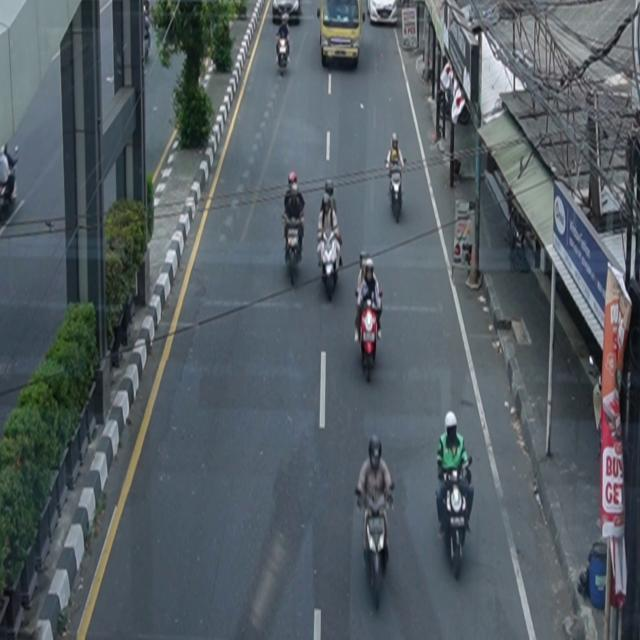car: (317, 1, 366, 69), (367, 1, 399, 26), (273, 1, 303, 24)
